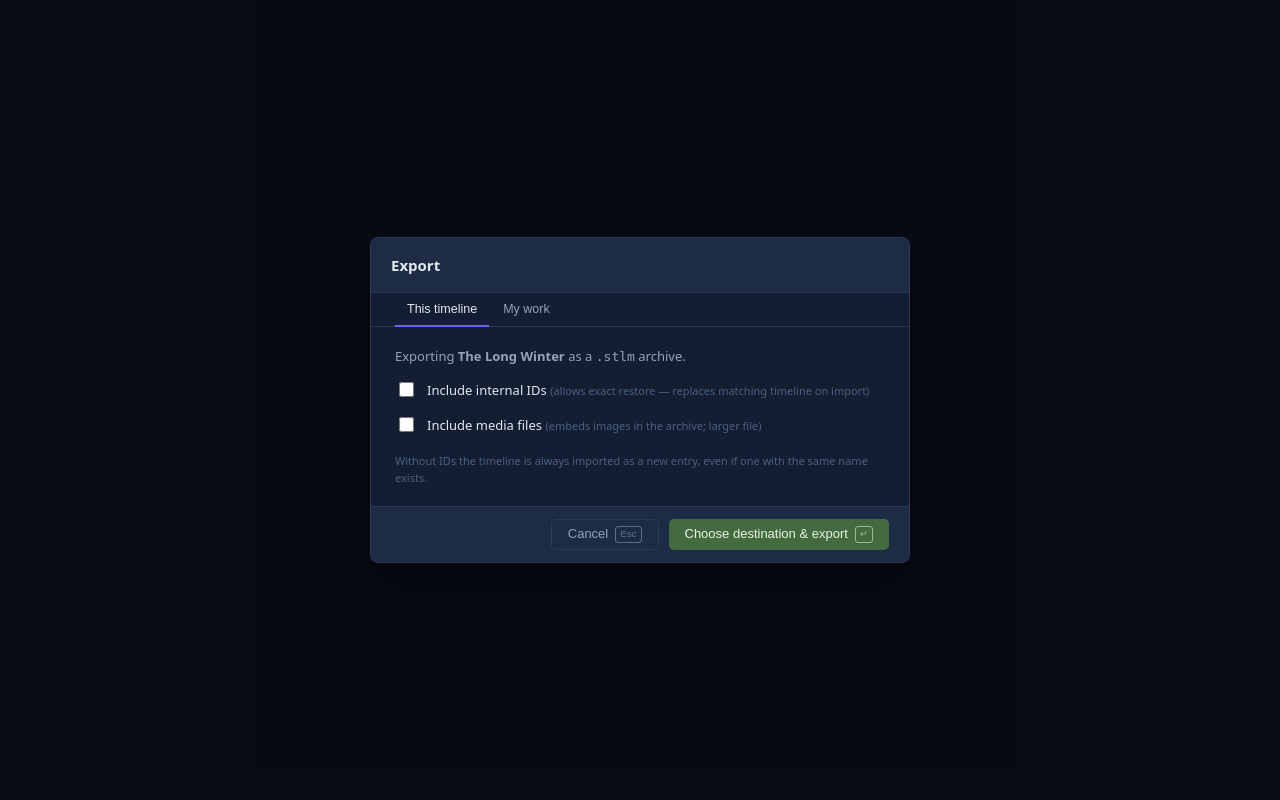
Scenario: ExportTimelineModal — my work › starts on everything after the last export, not including it
What coordinates should you click on to do the following:
click the tab with class "tab" showing "My work"
I would click on:
 (526, 310)
Its box is [491,293,562,327].
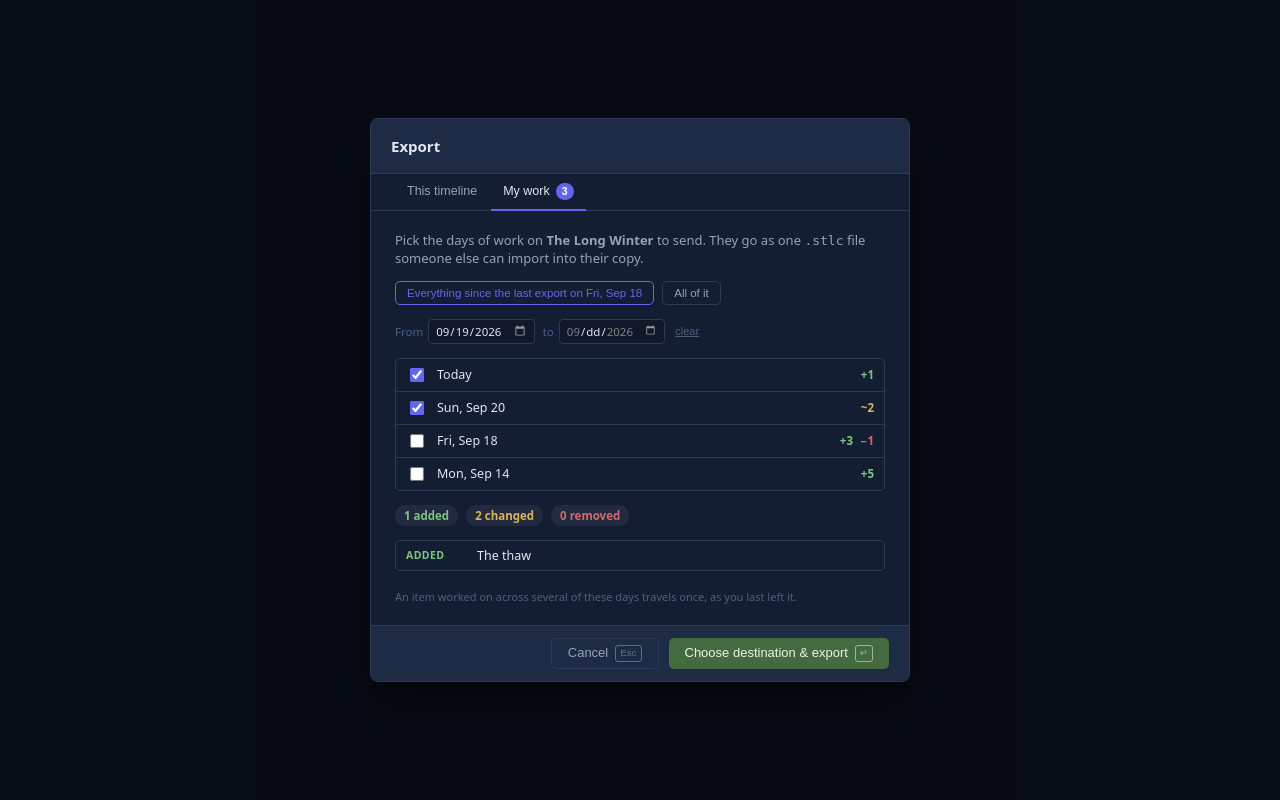
Now the list item "Today +1" is shown, box [410,366,874,383]
Now the button "Everything since the last export on Fri, Sep 18" is shown, box [395,281,654,305]
